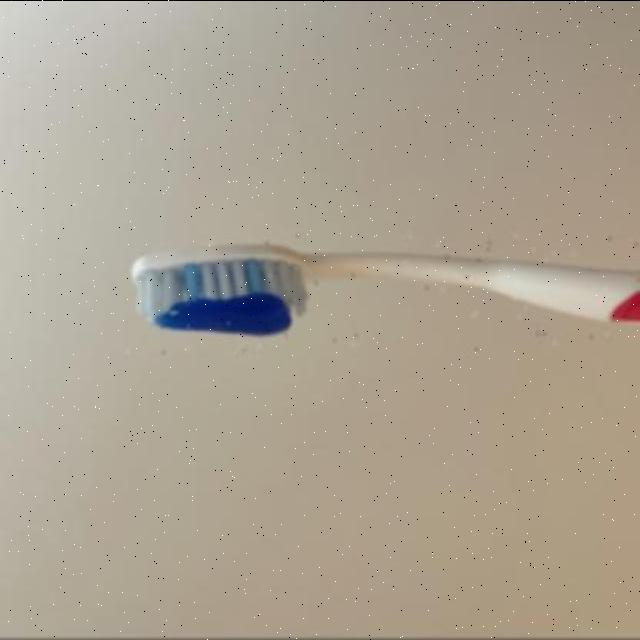toothbrush: (110, 234, 640, 354)
